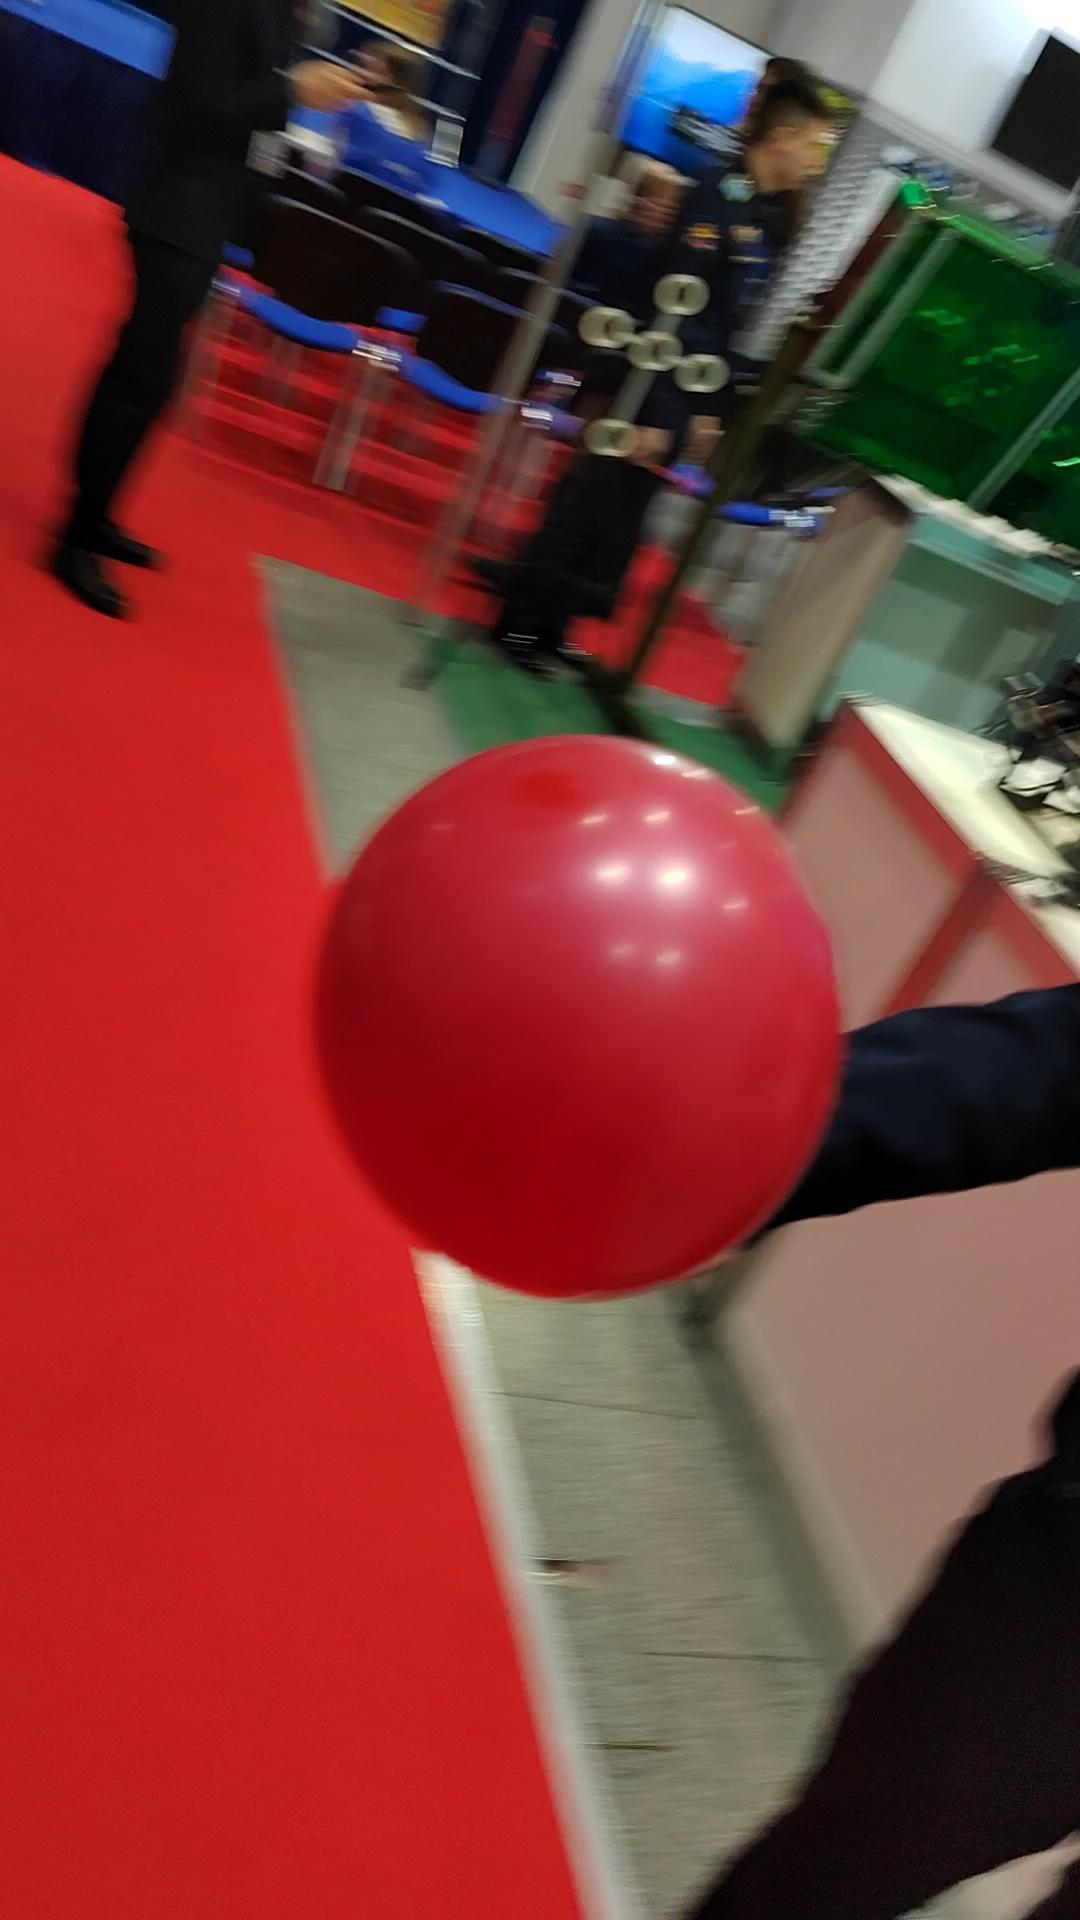red: (303, 716, 855, 1298)
